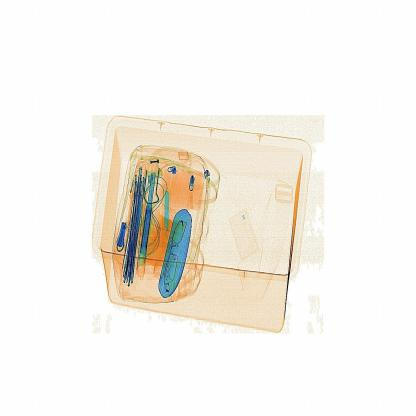pliers: (156, 178, 175, 247)
